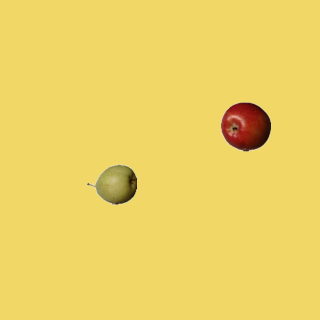Apple Braeburn: (220, 101, 270, 151)
Pear: (86, 159, 136, 209)
